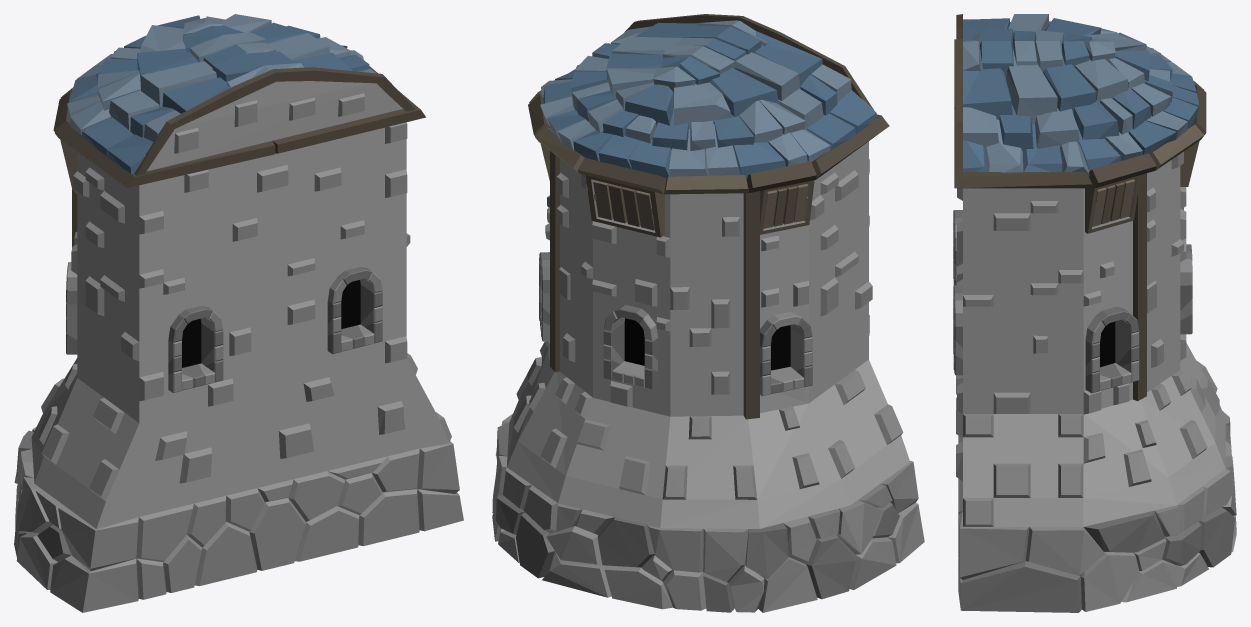
The model's file is _FORTRESS_FULL.fbx.
3 views of the same model, side by side, from view 1: azimuth 30°, elevation 25°; view 2: azimuth 150°, elevation 25°; view 3: azimuth 270°, elevation 25° (orthographic). The views are drawn at different scales.
Parts seen in each view (by area): view 1: FORTRESS_OSNOVA_01, FORTRESS_ROOF_01, FORTRESS_MIDDLE_01; view 2: FORTRESS_OSNOVA_01, FORTRESS_ROOF_01, FORTRESS_MIDDLE_01; view 3: FORTRESS_OSNOVA_01, FORTRESS_ROOF_01, FORTRESS_MIDDLE_01.
Boxes of the visible parts, x1,y1,x2,y2 form: FORTRESS_OSNOVA_01: (14, 353, 463, 612); FORTRESS_ROOF_01: (53, 14, 425, 274); FORTRESS_MIDDLE_01: (66, 203, 410, 423); FORTRESS_OSNOVA_01: (492, 341, 924, 612); FORTRESS_ROOF_01: (528, 14, 889, 275); FORTRESS_MIDDLE_01: (539, 195, 872, 419); FORTRESS_OSNOVA_01: (956, 343, 1236, 612); FORTRESS_ROOF_01: (954, 14, 1206, 269); FORTRESS_MIDDLE_01: (953, 207, 1192, 414).
Bounding box in the file's own units: 624 × 762 × 406.
